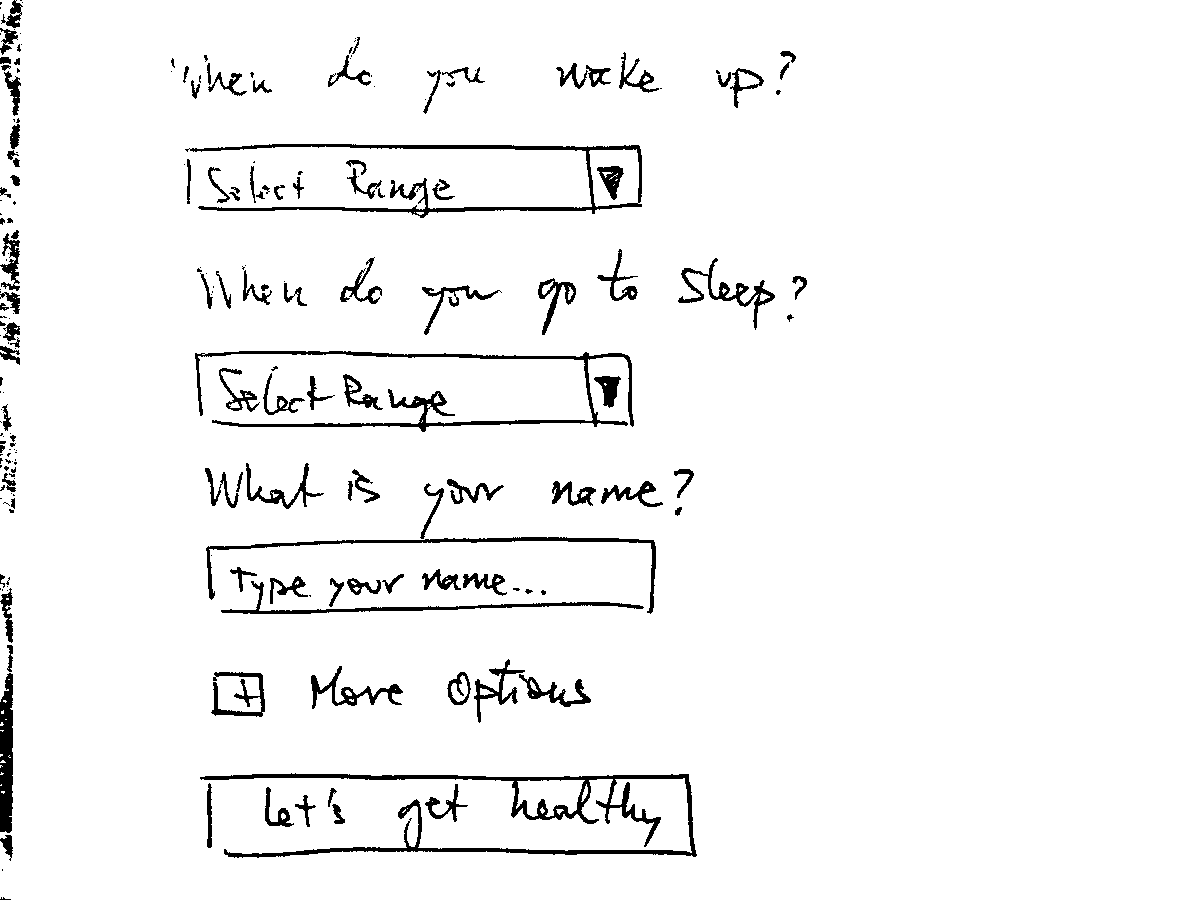Button: (199, 763, 699, 864)
Select: (192, 344, 642, 435), (179, 138, 648, 222)
